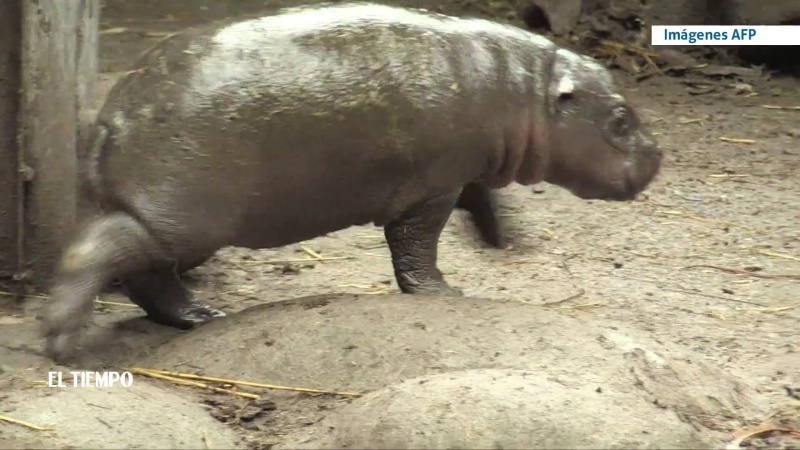hipopotamo: (57, 4, 674, 382)
